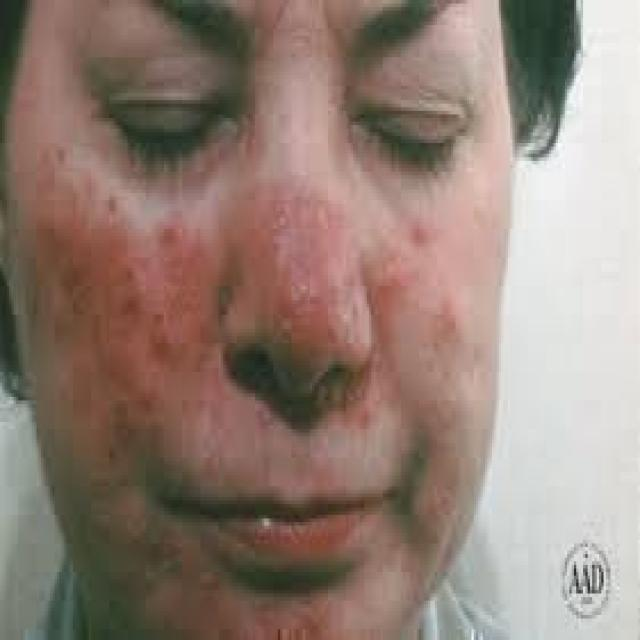Rosacea: (35, 166, 217, 458), (370, 217, 483, 523), (238, 182, 348, 356)
